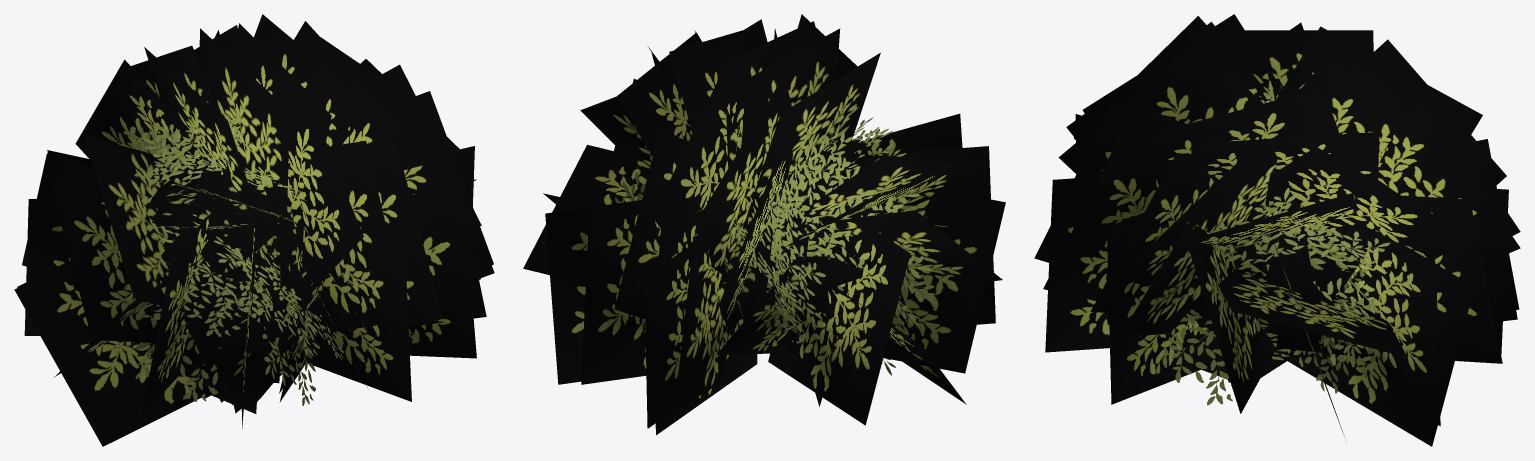
File: Bush 1.fbx
The picture shows the model from 3 angles, left to right: view 1: azimuth 30°, elevation 25°; view 2: azimuth 150°, elevation 25°; view 3: azimuth 270°, elevation 25°; orthographic projection. The views are drawn at different scales.
Parts seen in each view (by area): view 1: Bushes 1; view 2: Bushes 1; view 3: Bushes 1.
Part boxes in pixels (<box>): Bushes 1: <box>14,14,494,446</box>; Bushes 1: <box>523,14,1005,435</box>; Bushes 1: <box>1034,14,1520,446</box>.
Bounding box in the file's own units: 4023 × 3300 × 4116.
